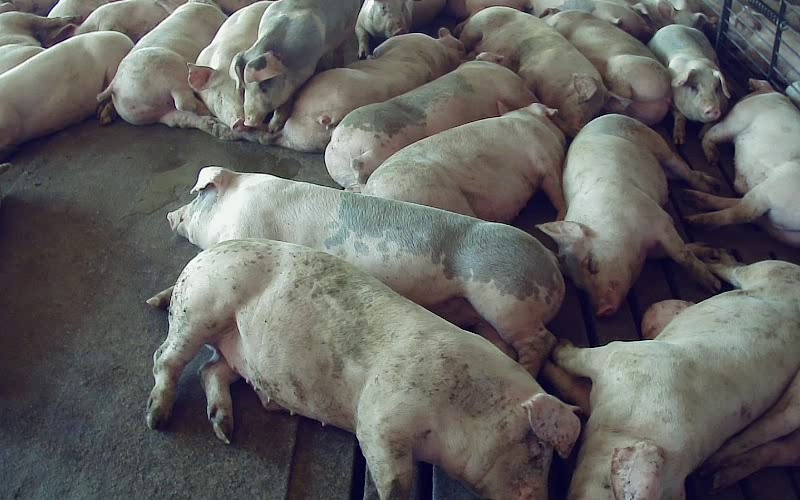pig: (147, 240, 578, 499), (168, 167, 563, 375), (544, 261, 799, 499), (538, 114, 717, 315), (325, 53, 537, 190), (362, 103, 564, 222), (460, 6, 610, 136), (98, 2, 234, 139), (688, 79, 799, 246), (0, 31, 132, 159), (544, 10, 670, 124), (188, 2, 270, 128)
